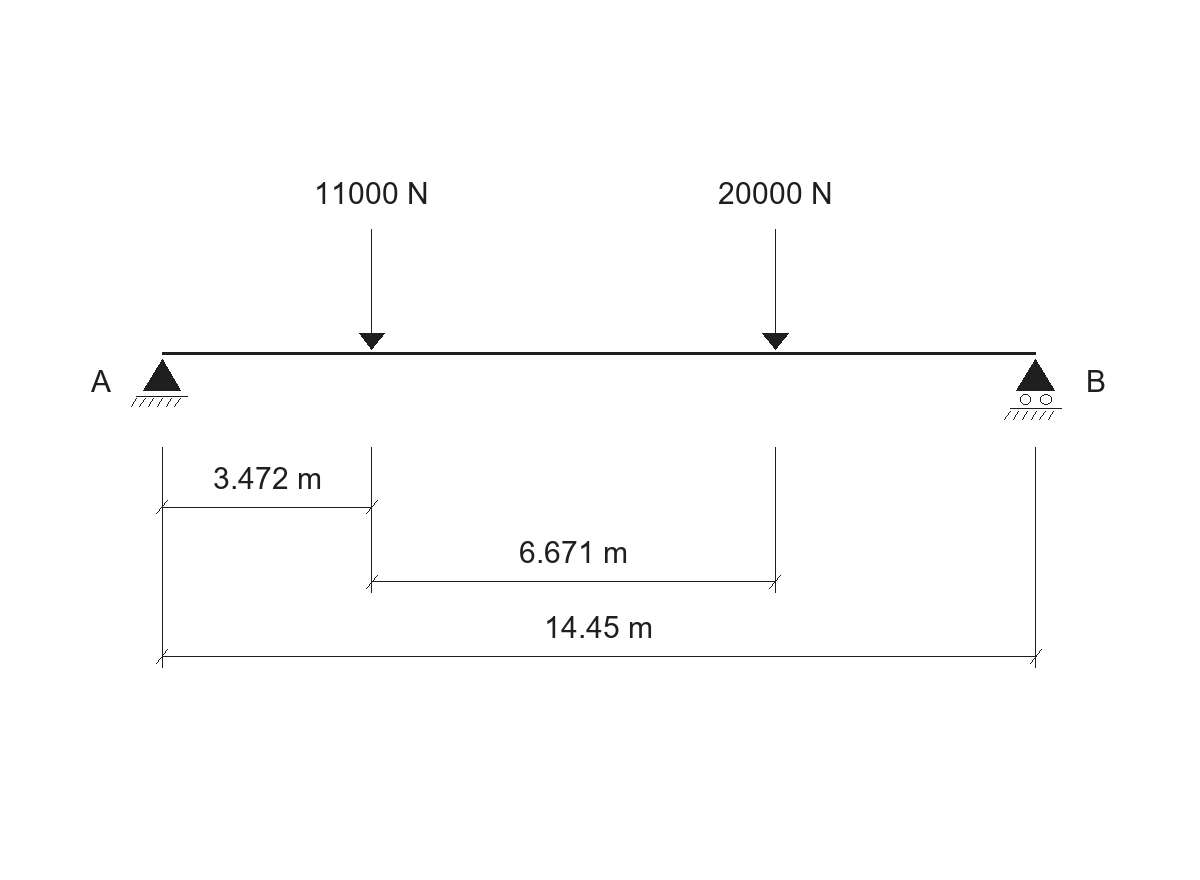pin_support: (131, 359, 188, 407)
point_load: (762, 229, 789, 350), (359, 229, 385, 350)
roller_support: (1004, 359, 1062, 420)
